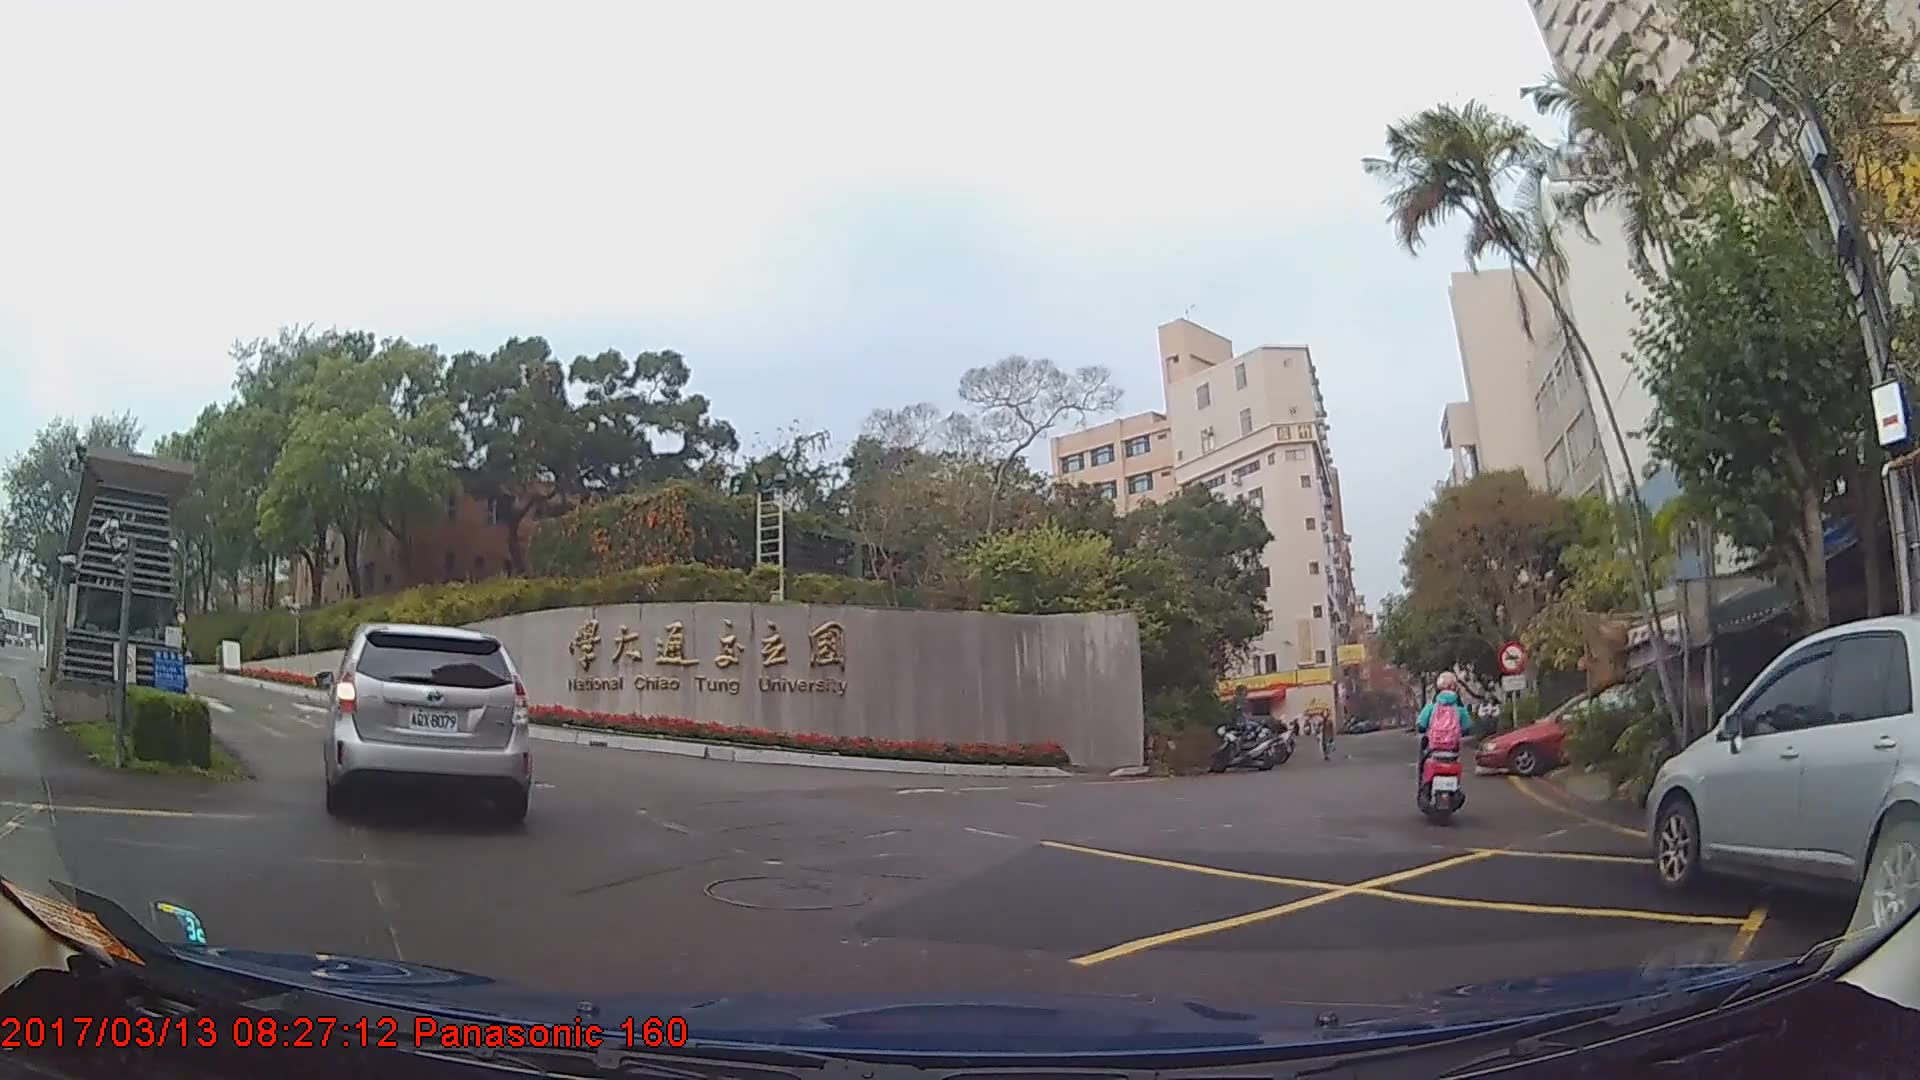pedestrian: (1317, 711, 1339, 766)
rider: (1412, 666, 1471, 828)
vehicle: (1649, 615, 1920, 936), (316, 619, 528, 829), (1478, 687, 1671, 775)
